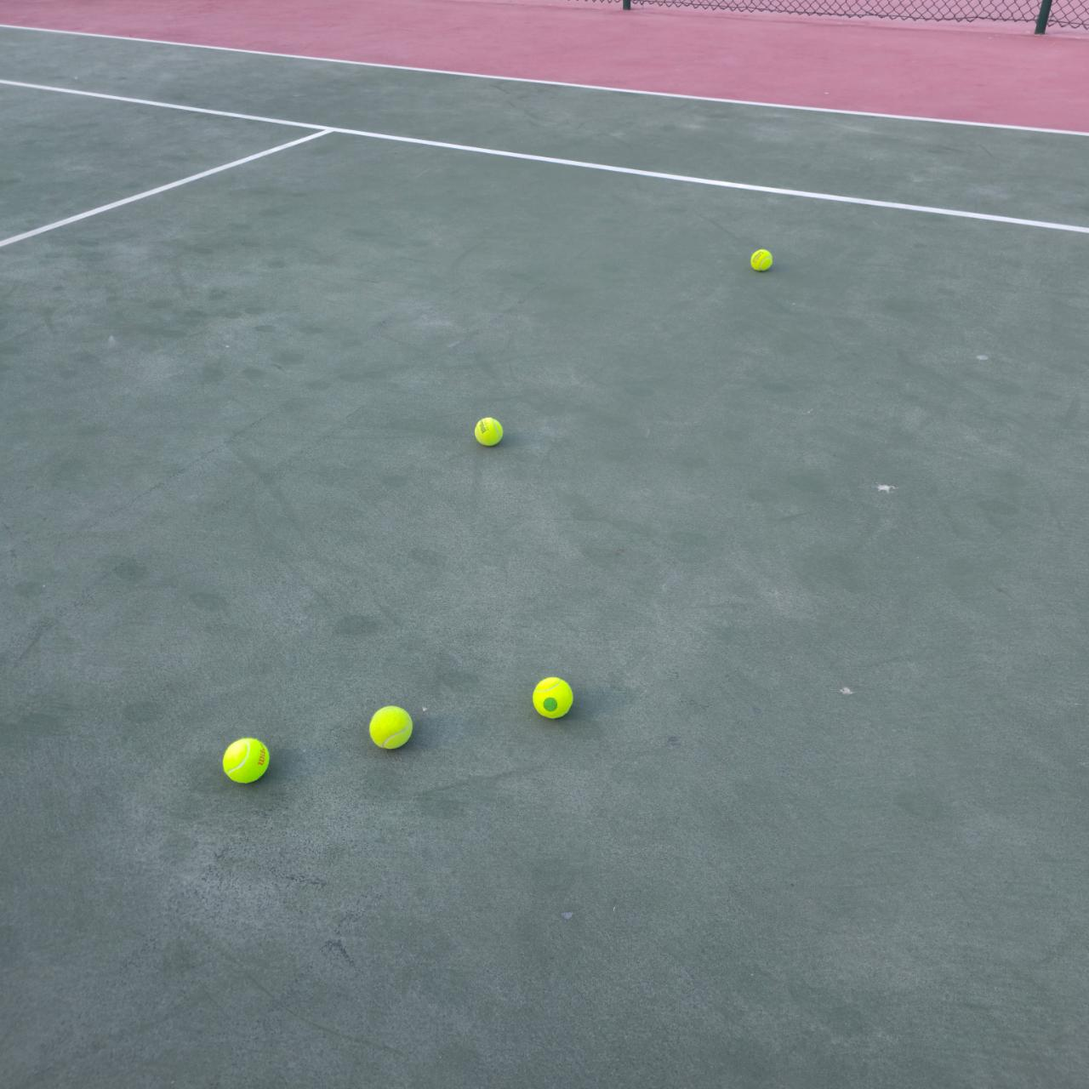tennis-ball: (220, 734, 271, 784), (367, 703, 413, 750), (531, 674, 573, 719), (472, 413, 504, 447), (748, 246, 773, 272)
